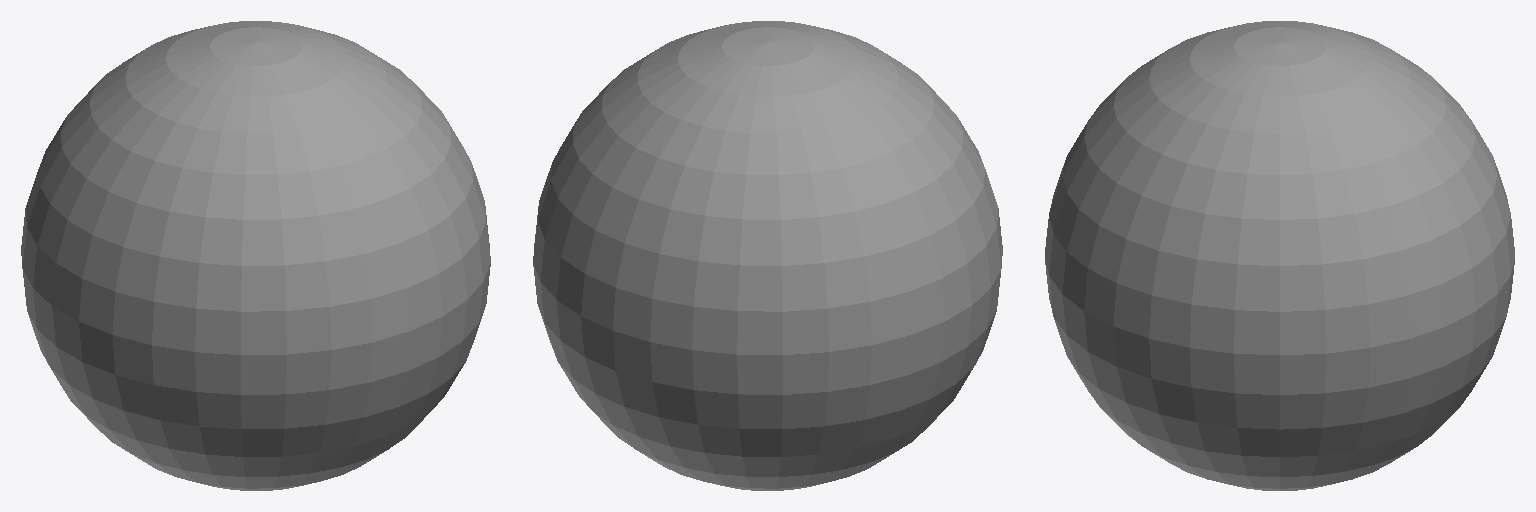
Rendered from earth.obj.
The picture shows the model from 3 angles: view 1: azimuth 30°, elevation 25°; view 2: azimuth 150°, elevation 25°; view 3: azimuth 270°, elevation 25°; orthographic projection.
Parts seen in each view (by area): view 1: Sphere; view 2: Sphere; view 3: Sphere.
Boxes of the visible parts, x1,y1,x2,y2 form: Sphere: [21, 21, 490, 490]; Sphere: [533, 21, 1002, 490]; Sphere: [1045, 21, 1514, 490].
Size of the model in its own units: 2 by 2 by 2.